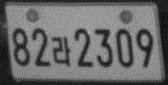0: (115, 28, 134, 67)
2: (73, 27, 94, 68), (31, 27, 51, 66)
3: (94, 27, 113, 67)
8: (11, 27, 30, 66)
9: (136, 28, 153, 67)
라: (50, 36, 71, 67)
